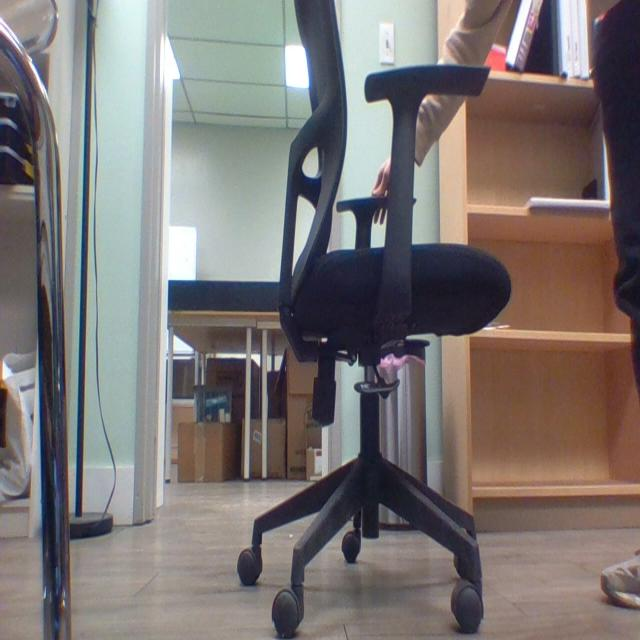black-chair: (268, 2, 504, 617)
